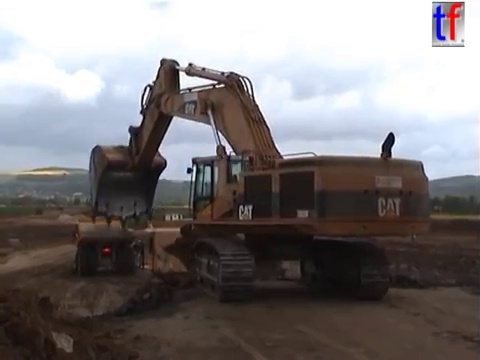excavator: (86, 55, 435, 304)
truck: (129, 225, 304, 304), (71, 213, 142, 281), (33, 205, 46, 217), (56, 203, 66, 212)
worker: (406, 223, 420, 246)
